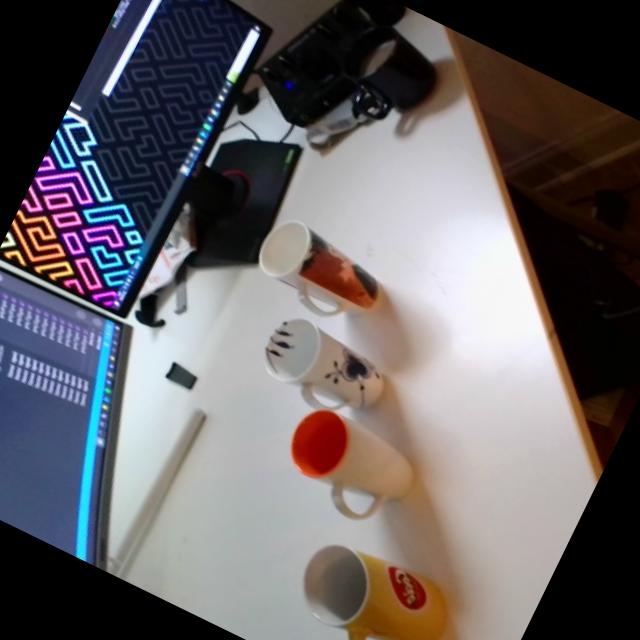Cocio Cup: (274, 527, 462, 640)
Cup: (332, 13, 448, 126)
Halloween cup: (248, 212, 392, 336)
Hand painted cup: (247, 307, 394, 431)
White Cup: (270, 398, 429, 538)
